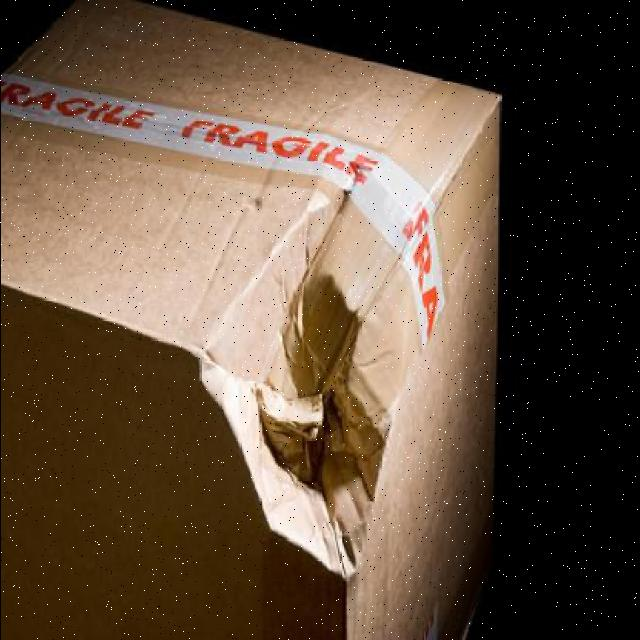defect: (1, 11, 518, 640)
